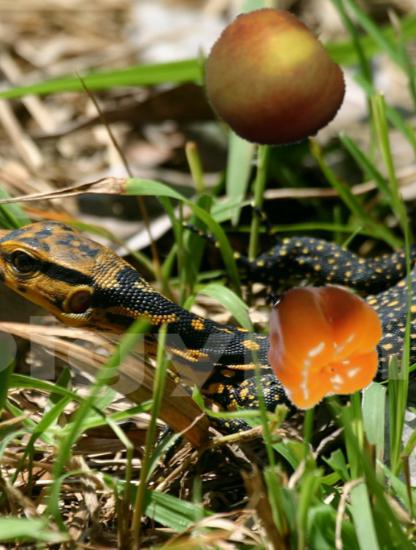Apple: (200, 7, 345, 152)
Pepper: (251, 273, 388, 410)
